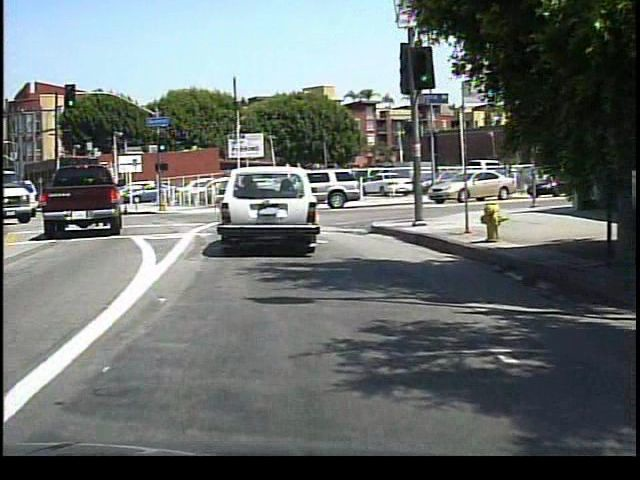person: (408, 163, 427, 204)
